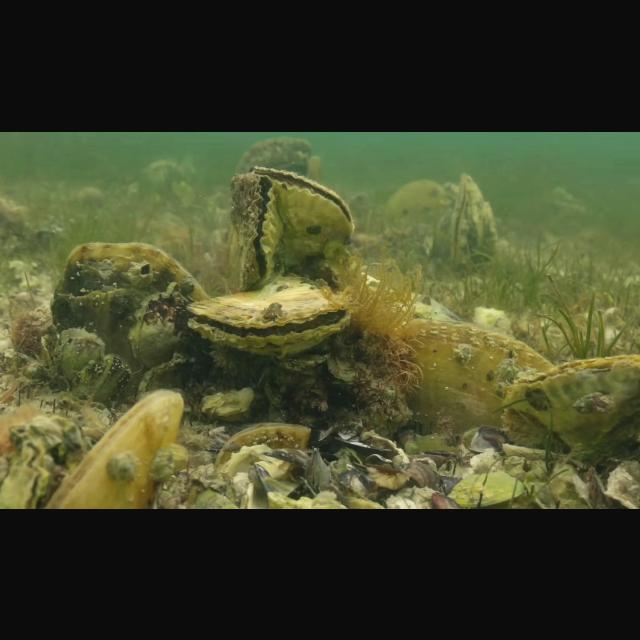Oyster-Closed: (48, 238, 212, 374), (394, 314, 556, 446), (43, 387, 187, 509), (501, 351, 640, 454), (444, 170, 502, 272), (214, 416, 314, 472), (77, 354, 135, 408), (138, 351, 190, 397)
Oyster-Open: (186, 276, 358, 358), (248, 162, 354, 268), (230, 172, 286, 288), (0, 424, 48, 508), (57, 326, 107, 384)
